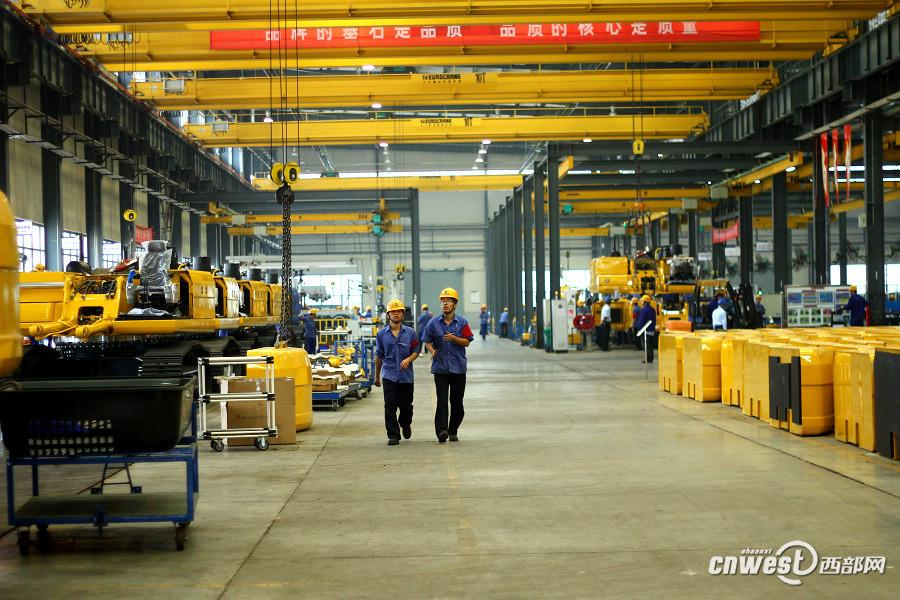helmet: (387, 300, 405, 315), (440, 288, 459, 299), (642, 295, 651, 304), (718, 299, 729, 306), (632, 297, 639, 305), (310, 310, 318, 317), (423, 304, 431, 310), (605, 297, 611, 304), (483, 304, 489, 309), (505, 307, 509, 312), (600, 300, 605, 303), (482, 307, 485, 310)
